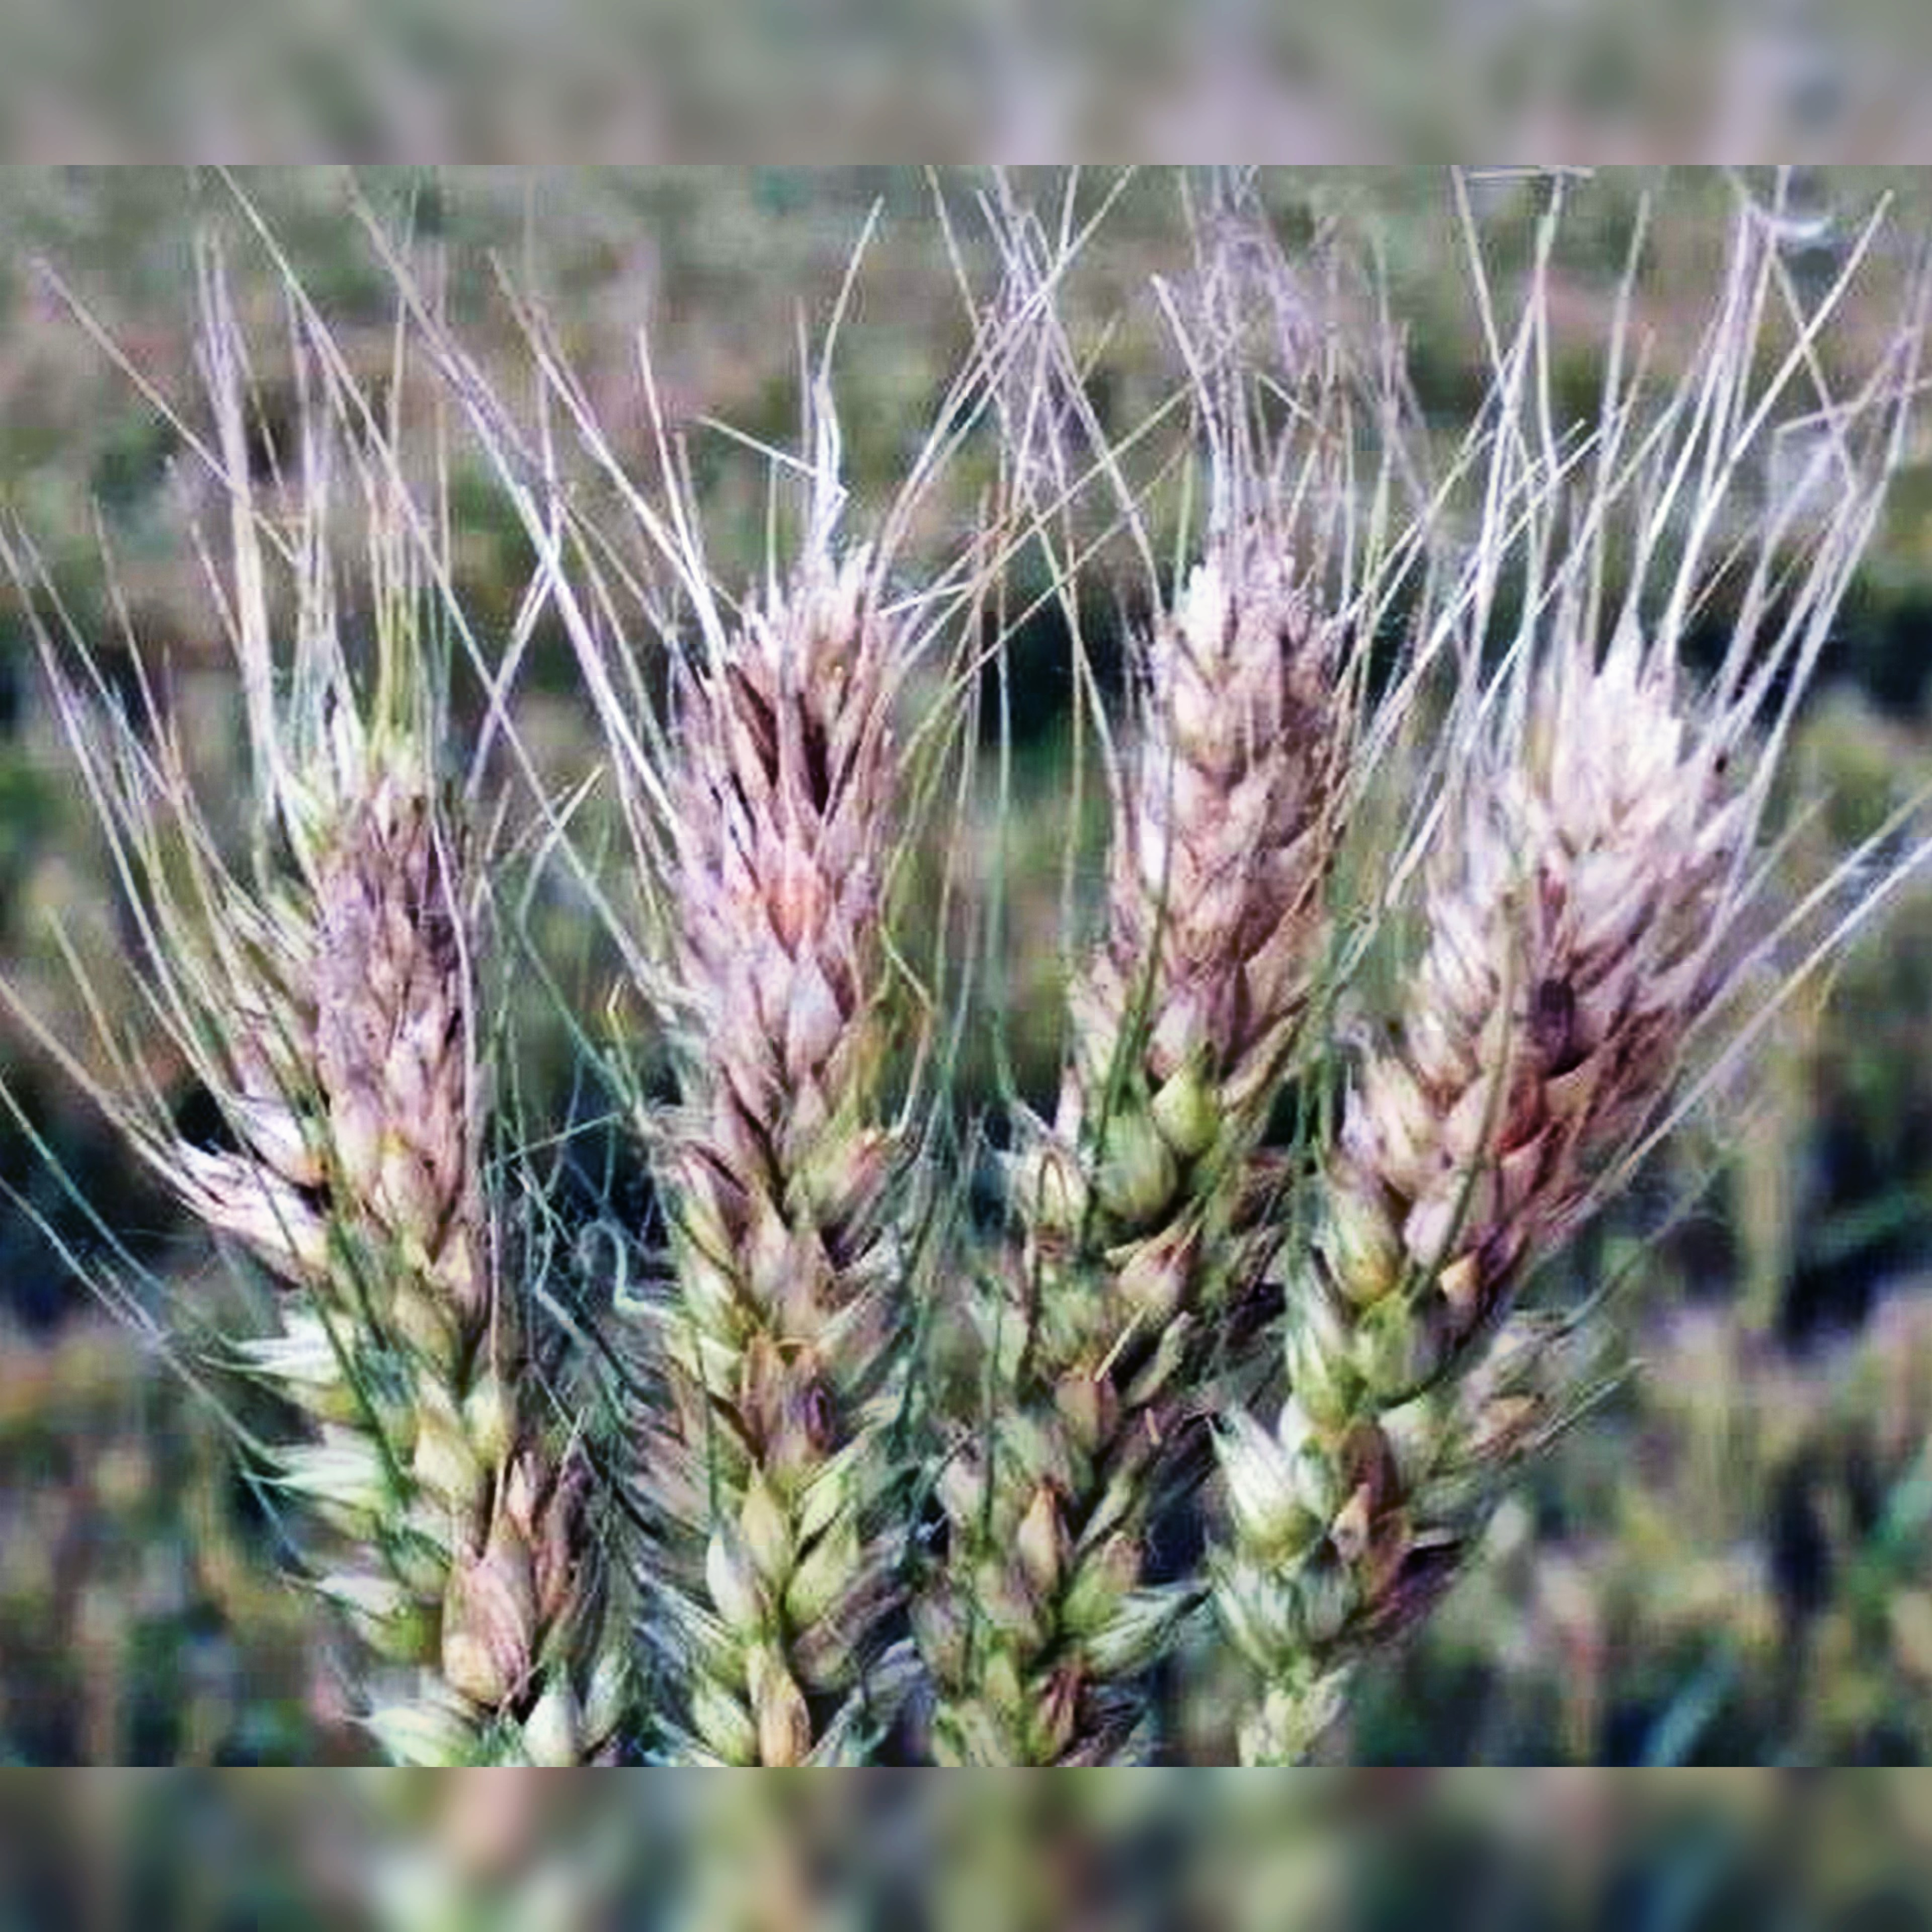Wheat scab: (175, 706, 616, 1787), (612, 492, 948, 1752), (964, 525, 1315, 1714)
